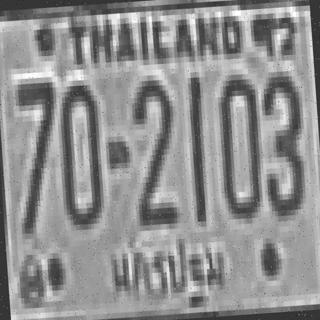N00: (213, 70, 263, 217), (55, 79, 102, 226)
N01: (183, 72, 208, 222), (184, 77, 206, 222)
N02: (128, 74, 179, 226)
N03: (256, 67, 306, 214)
N07: (11, 74, 62, 231)
P28: (101, 226, 226, 314)
